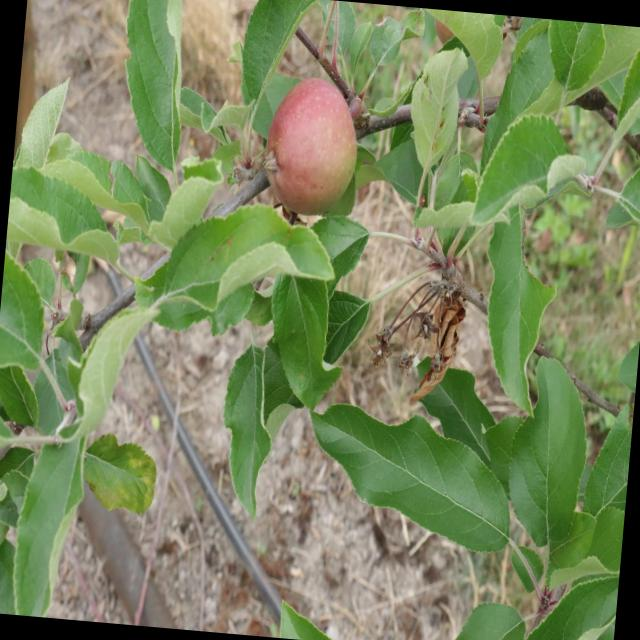-FireBlight-: (376, 289, 472, 401)
